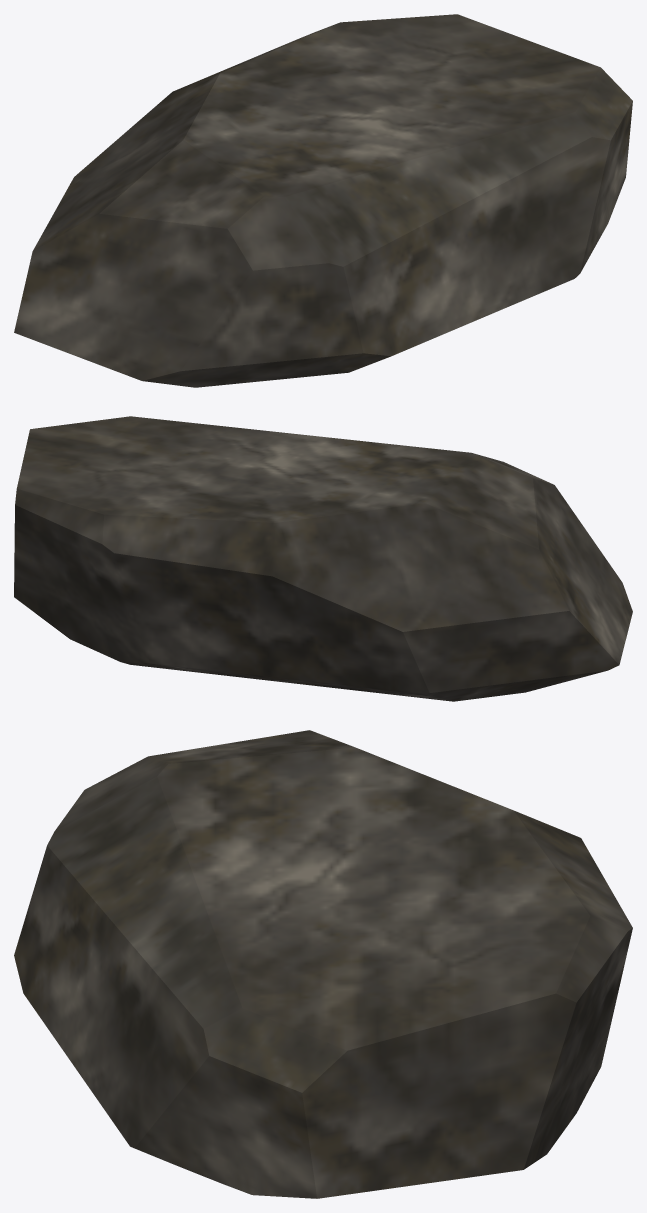
Rendered from Rocha-03-Laje.glb.
3 views of the same model, one above another, from view 1: azimuth 30°, elevation 25°; view 2: azimuth 150°, elevation 25°; view 3: azimuth 270°, elevation 25° (orthographic). The views are drawn at different scales.
Parts seen in each view (by area): view 1: Laje baixa; view 2: Laje baixa; view 3: Laje baixa.
Part boxes in pixels (x1,y1,x2,y2): Laje baixa: (14, 14, 632, 387); Laje baixa: (14, 416, 632, 701); Laje baixa: (14, 730, 632, 1198).
Bounding box in the file's own units: 2.15 × 0.58 × 1.41.
1 material, 1 textured.
